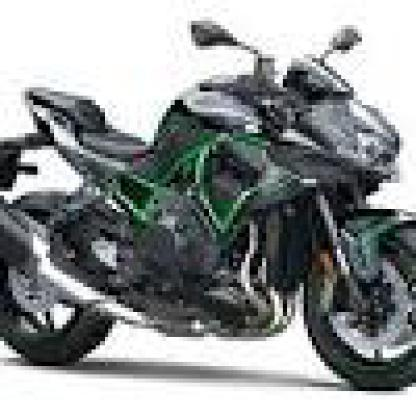Motorcycle: (0, 9, 412, 396)
